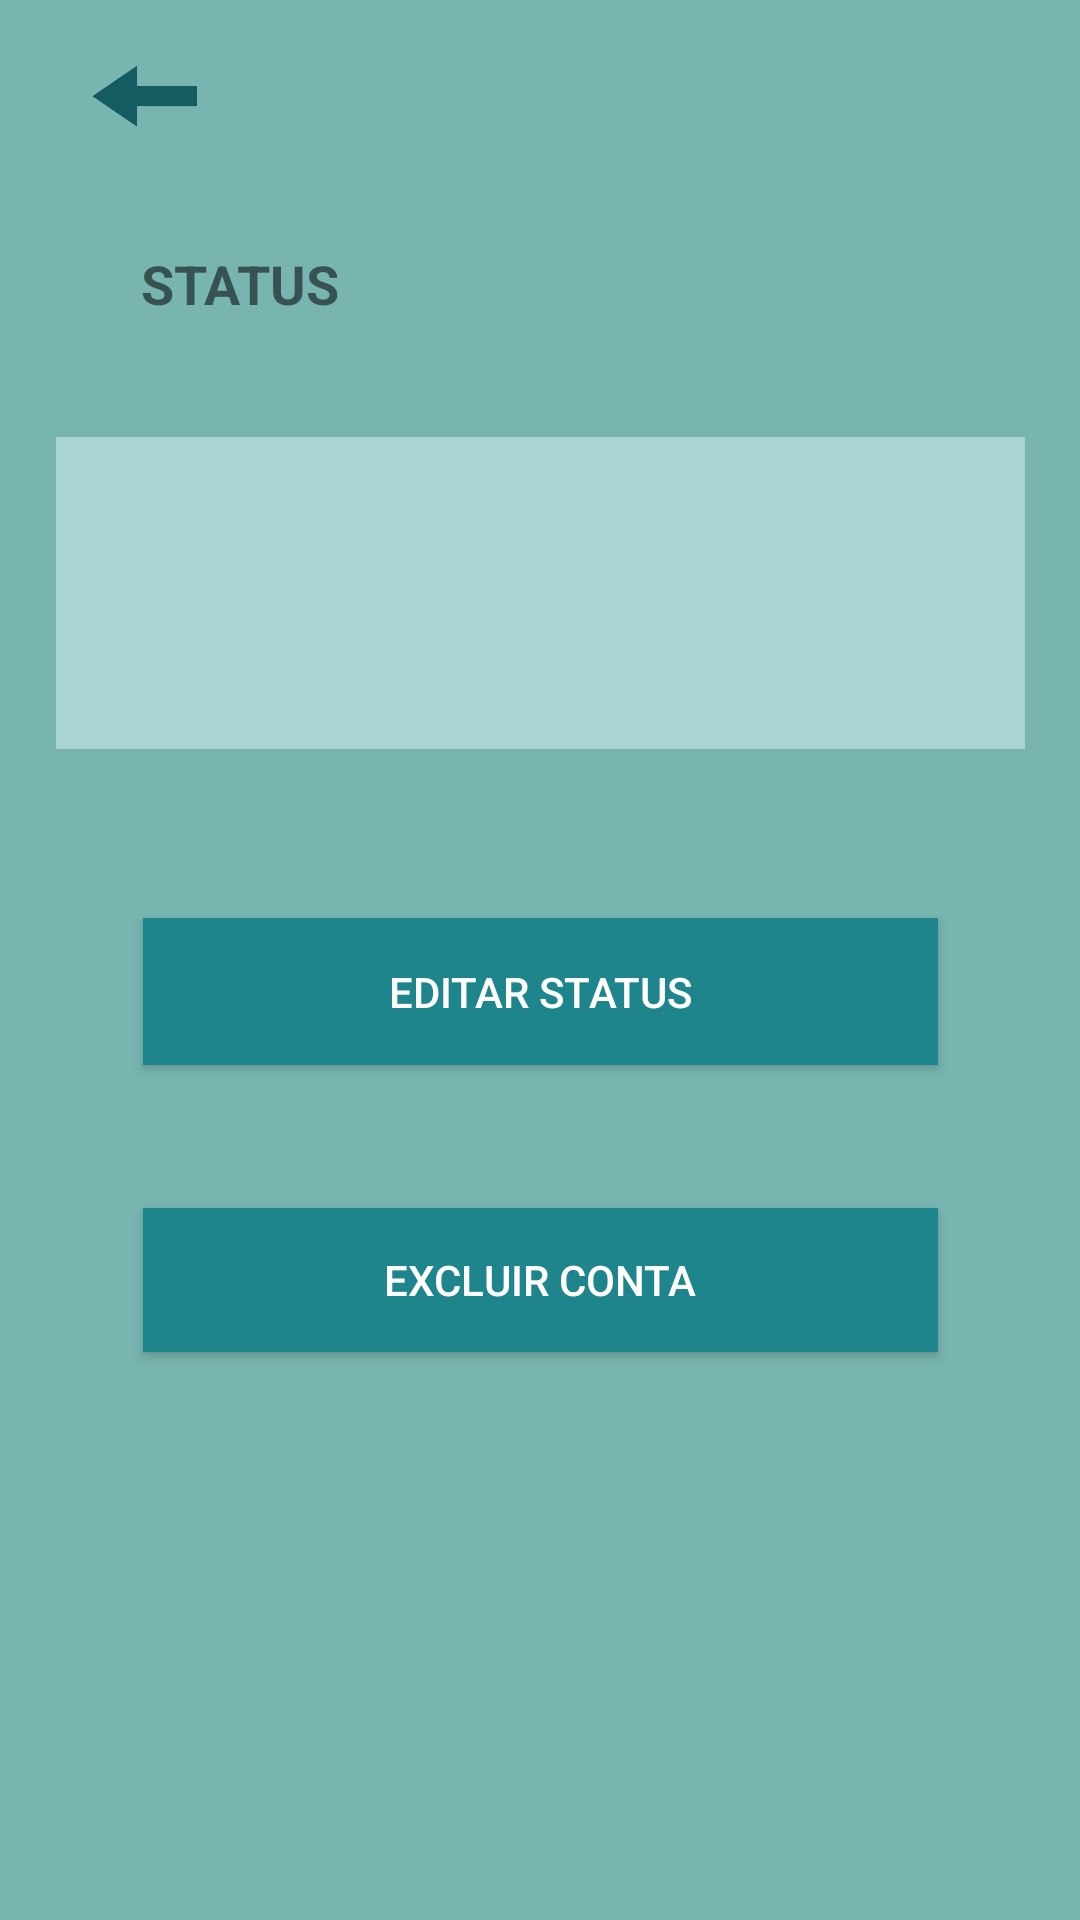

Locate icon controls on the screen. Image size 1080*1920, boxes as (x1, y1, x2, y2).
btnvoltar: (93, 66, 197, 126)
